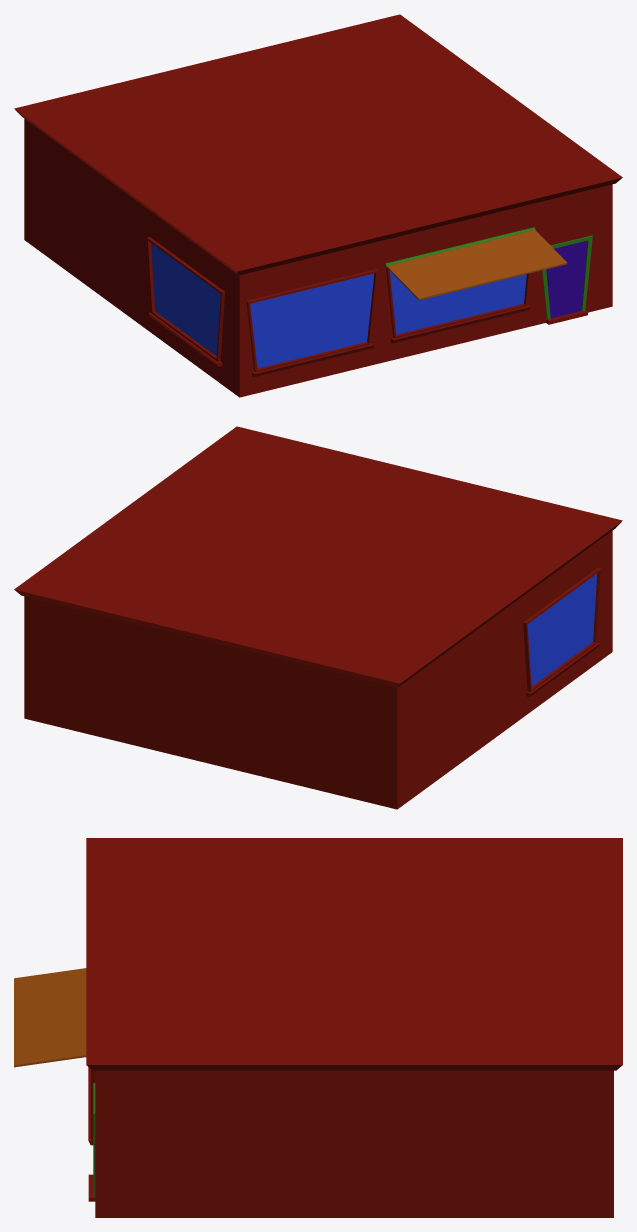
Rendered from SM_Base_Building_4m_02.fbx.
The picture shows the model from 3 angles, top to bottom: view 1: azimuth 30°, elevation 25°; view 2: azimuth 150°, elevation 25°; view 3: azimuth 270°, elevation 25°; orthographic projection. The views are drawn at different scales.
Visible parts, largest first — view 1: Base_4m_04; view 2: Base_4m_04; view 3: Base_4m_04.
Part boxes in pixels (left/top/right/bottom): Base_4m_04: left=14, top=14, right=622, bottom=397; Base_4m_04: left=14, top=426, right=622, bottom=809; Base_4m_04: left=14, top=838, right=622, bottom=1217.
Size of the model in its own units: 12.41 by 4 by 14.08.
